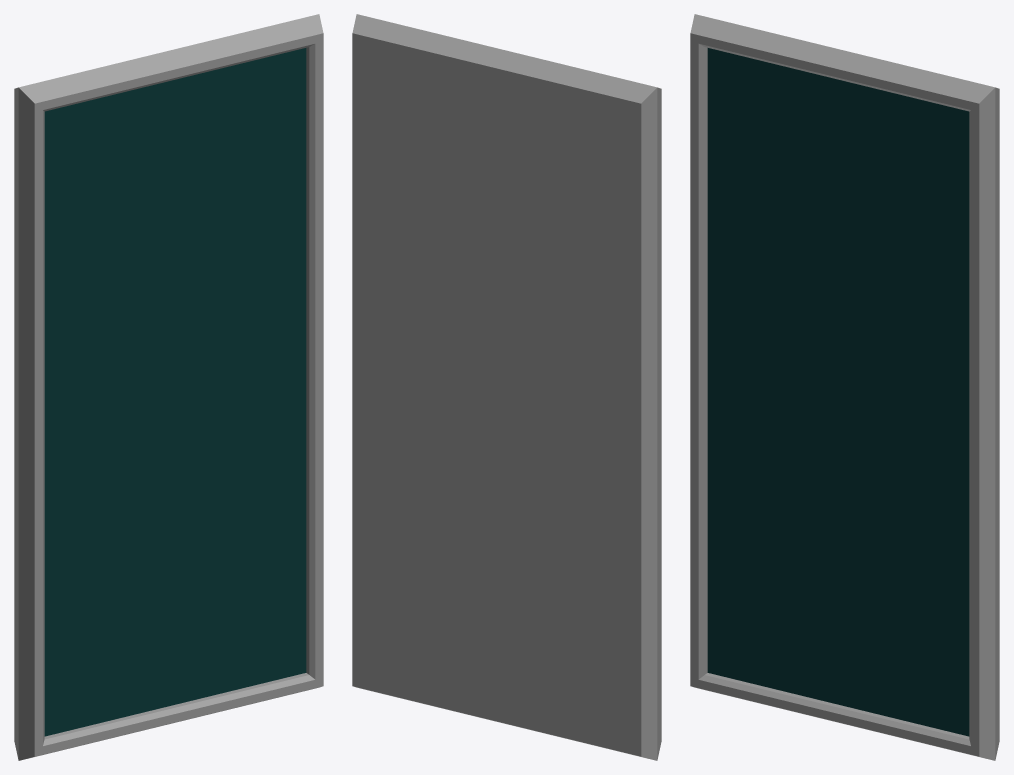
File: hh_mirror.glb
The picture shows the model from 3 angles, left to right: view 1: azimuth 30°, elevation 25°; view 2: azimuth 150°, elevation 25°; view 3: azimuth 330°, elevation 25°; orthographic projection.
Visible parts, largest first — view 1: Mirror_A; view 2: Mirror_A; view 3: Mirror_A.
Boxes of the visible parts, x1,y1,x2,y2 form: Mirror_A: (14,14,323,760); Mirror_A: (352,14,661,760); Mirror_A: (690,14,999,760).
Bounding box in the file's own units: 0.6635 × 1.42 × 0.0778.
